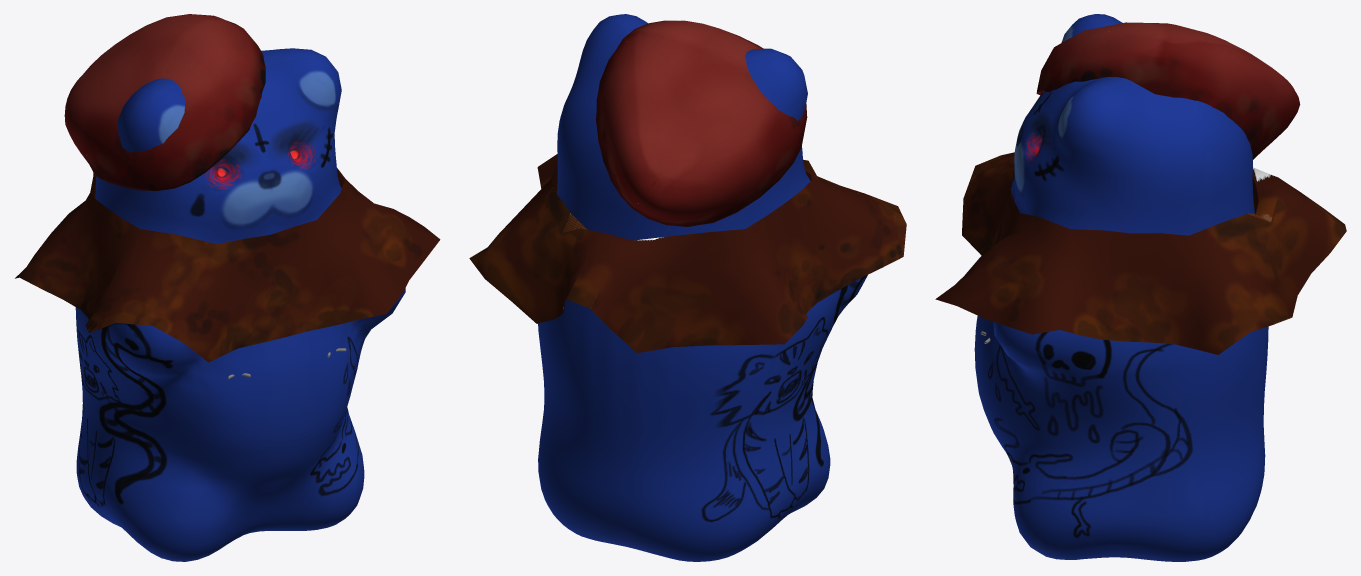
File: bear-big-blue_experimental.fbx
The picture shows the model from 3 angles, left to right: view 1: azimuth 30°, elevation 25°; view 2: azimuth 150°, elevation 25°; view 3: azimuth 270°, elevation 25°; orthographic projection. The views are drawn at different scales.
Parts seen in each view (by area): view 1: bear-big-blue, Plane, Cone; view 2: bear-big-blue, Plane, Cone; view 3: bear-big-blue, Plane, Cone.
Part boxes in pixels (x1,y1,x2,y2): bear-big-blue: (75,48,405,561); Plane: (15,168,440,362); Cone: (64,14,265,190); bear-big-blue: (538,14,867,561); Plane: (469,154,906,353); Cone: (596,20,807,226); bear-big-blue: (974,14,1268,561); Plane: (935,152,1346,354); Cone: (1036,22,1300,159).
Bounding box in the file's own units: 334 × 447 × 333.
Materials: 5 (4 with a texture image).
